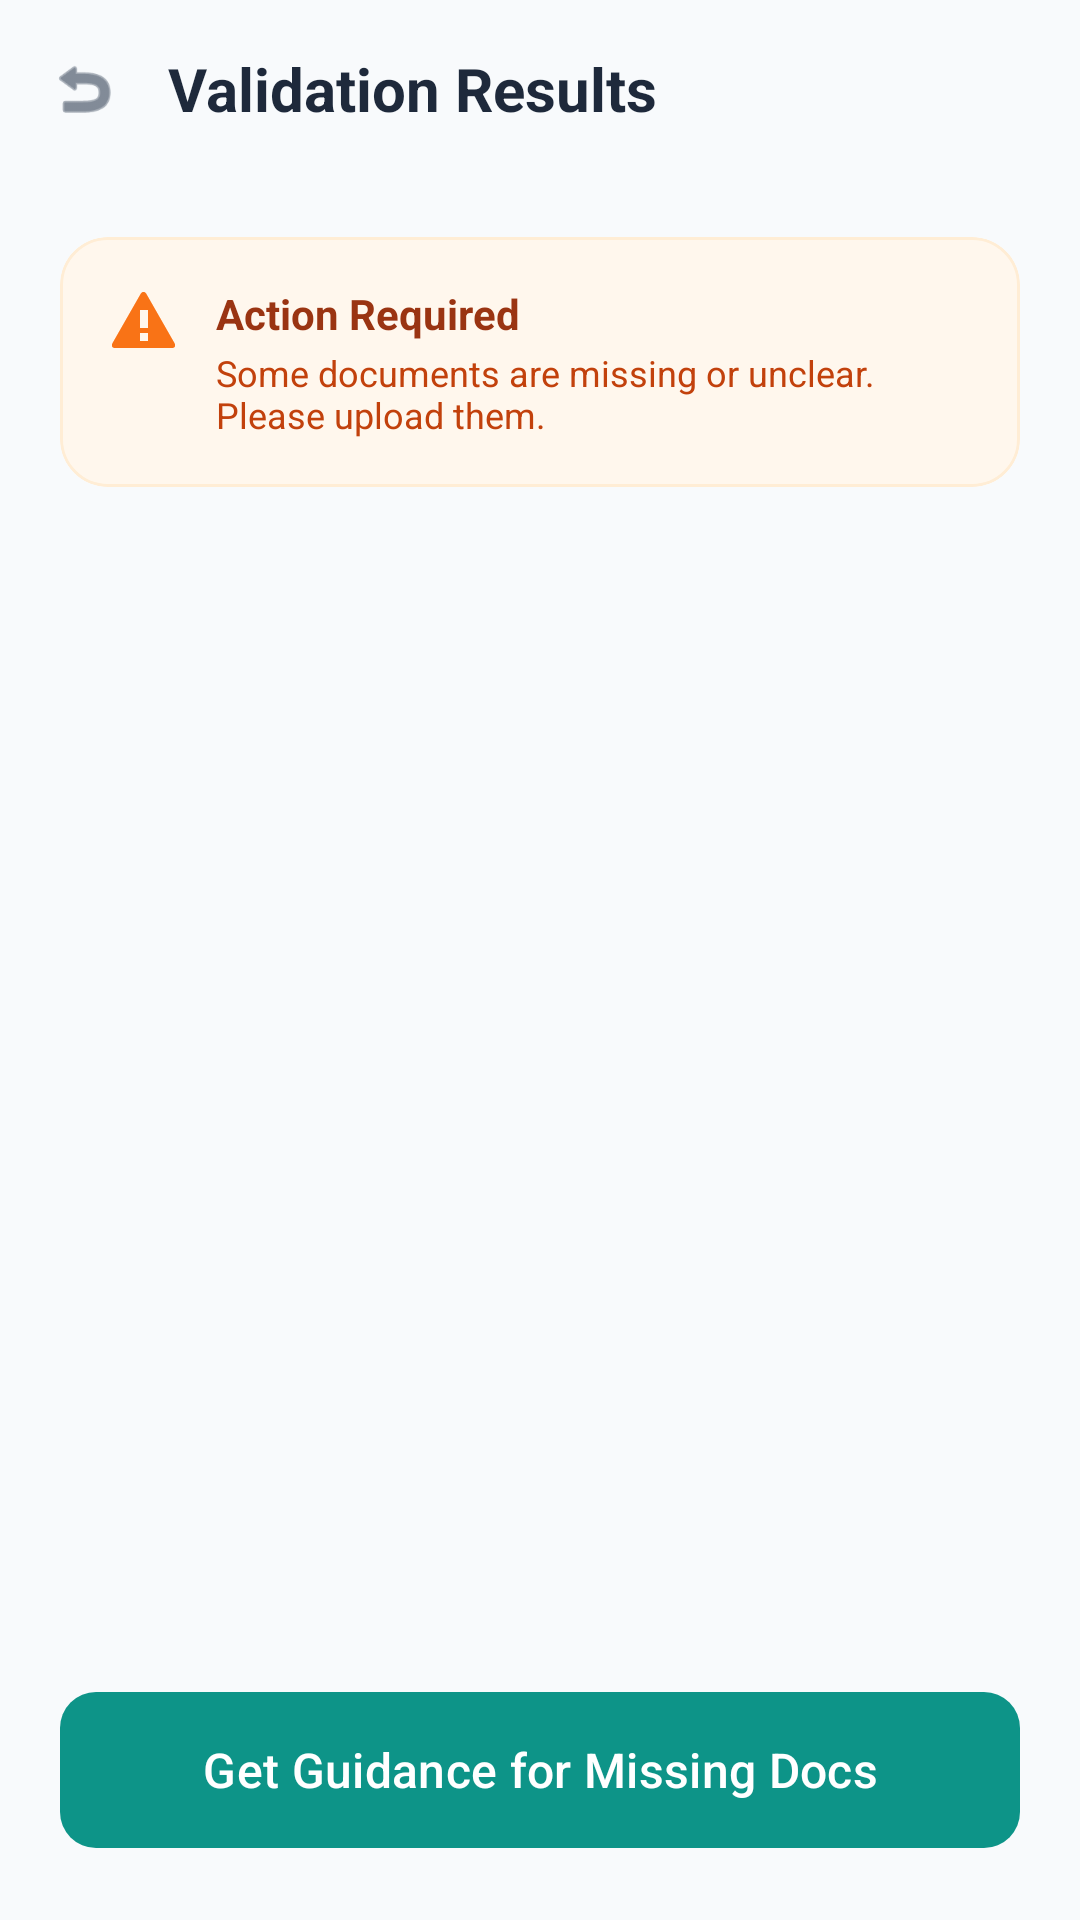

Where to tap for icons on this 1080w x 1920h app screen, as point (x, y):
revert: point (85, 89)
warning: point (143, 320)
